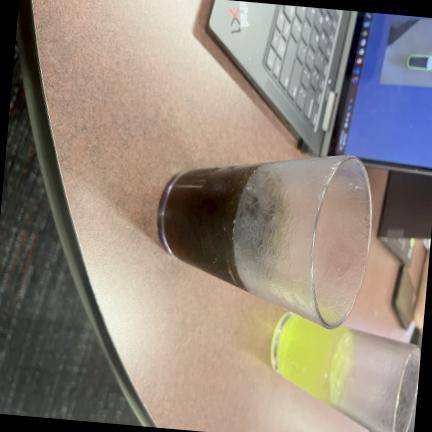container: (157, 155, 370, 329), (271, 313, 420, 432)
fluid: (163, 164, 258, 291), (270, 313, 347, 404)
fluid-surface: (233, 165, 281, 294), (329, 332, 351, 403)
